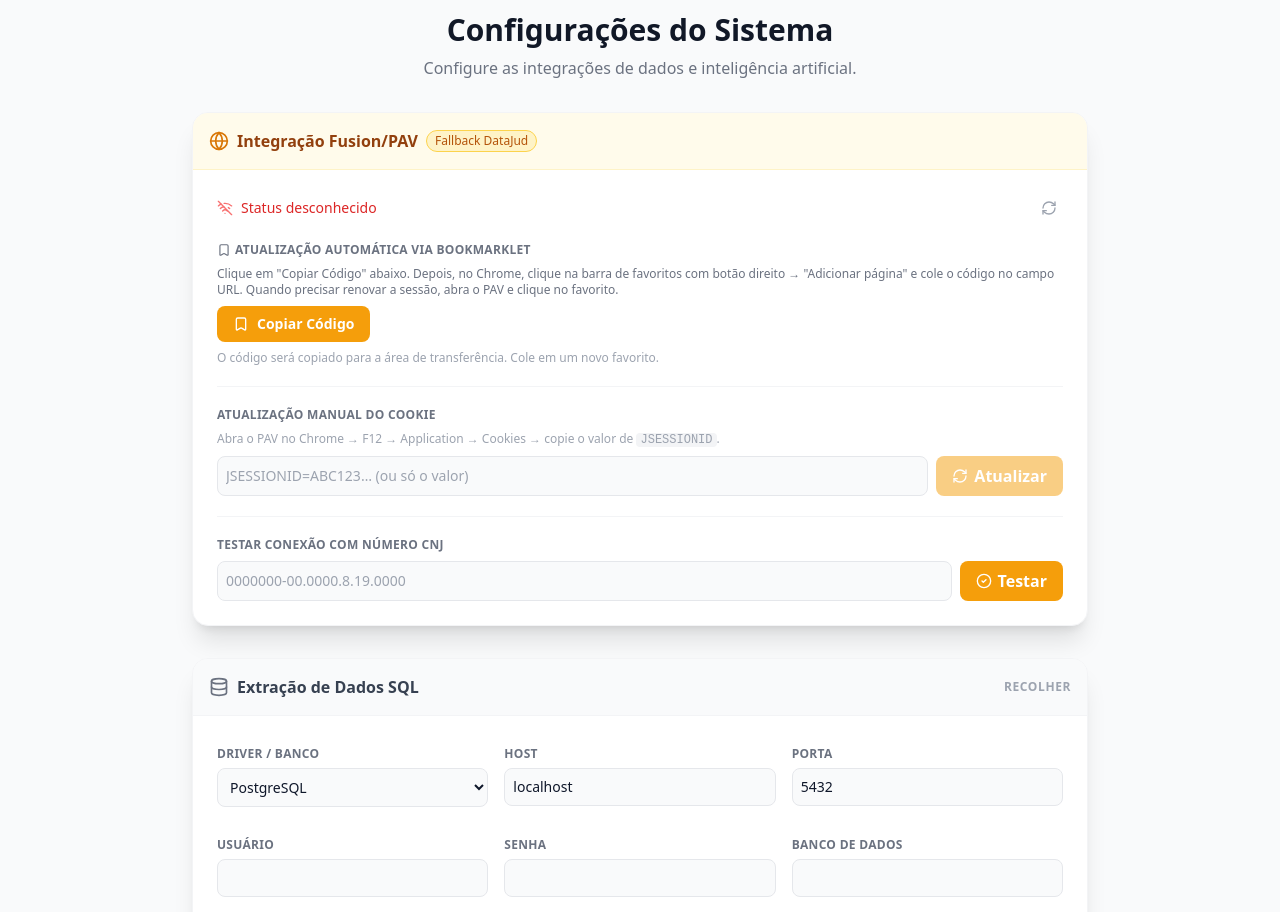
Test case: Settings Component › Expand/Collapse Section › TC-24: collapses section on header click
The width and height of the screenshot is (1280, 912).
expect the field labelled "Host" is shown: met, box [504,768,776,806]
Click header to collapse
Click the heading "Extração de Dados SQL" at (328, 687), box [237,675,419,699]
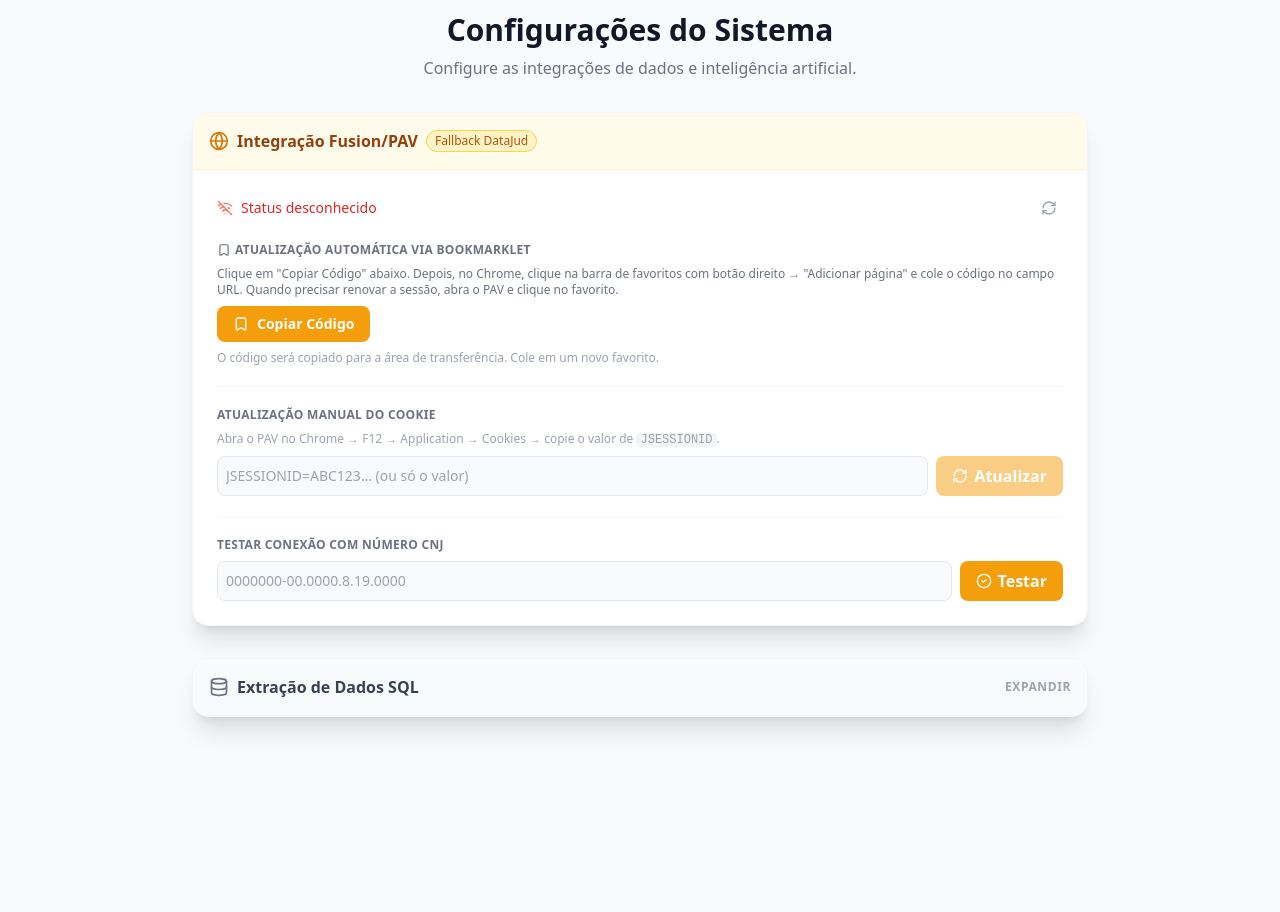
expect the label labelled "Host" is gone: met
